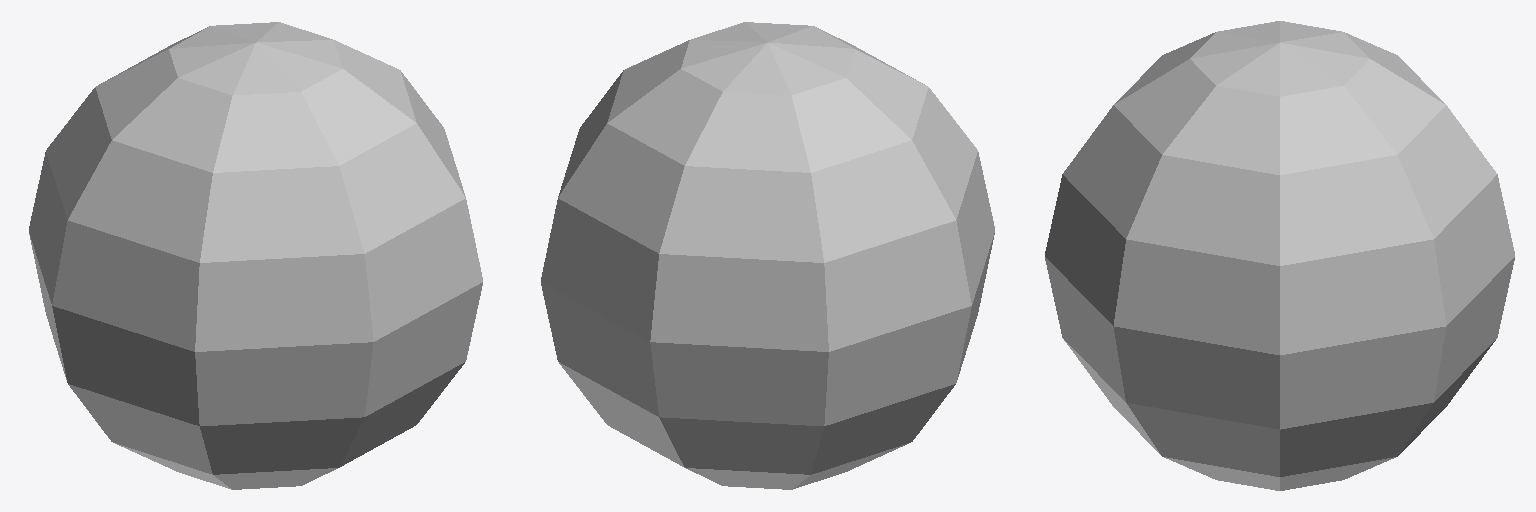
The model's file is ForestCannonBall.obj.
The picture shows the model from 3 angles: view 1: azimuth 30°, elevation 25°; view 2: azimuth 150°, elevation 25°; view 3: azimuth 270°, elevation 25°; orthographic projection.
Parts seen in each view (by area): view 1: ForestCannonBall; view 2: ForestCannonBall; view 3: ForestCannonBall.
Part boxes in pixels (bbox=[...]): ForestCannonBall: bbox=[29, 22, 482, 489]; ForestCannonBall: bbox=[541, 22, 994, 489]; ForestCannonBall: bbox=[1045, 21, 1514, 490].
Size of the model in its own units: 95.42 by 95.42 by 95.42.